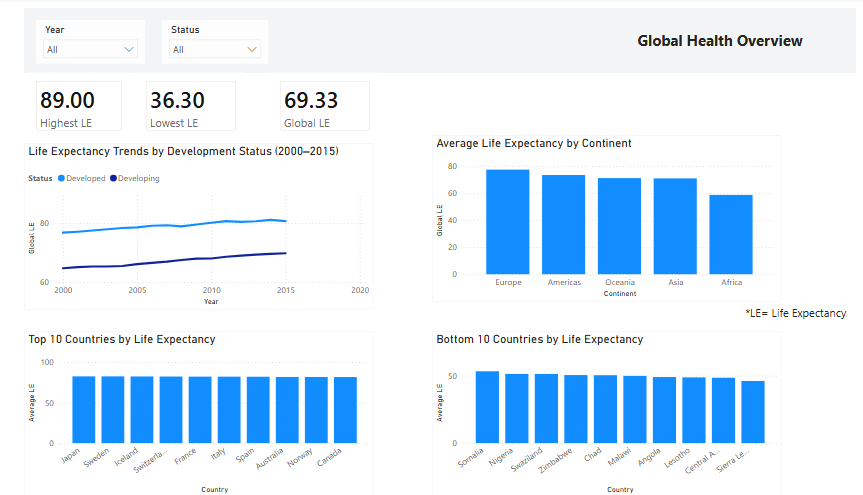

The page's visual inventory and layout, read from the dashboard file:
{"tool":"powerbi","page":{"name":"Page 1 ","canvas":[1280,720],"ordinal":0},"visuals":[{"type":"shape","box":[53.3,14.4,1198.1,93.6],"z":0},{"type":"lineChart","title":"Life Expectancy Trends by Development Status (2000–2015)","fields":{"Y":["_Measure Bank.Global_lifeExpectancy_Avg"],"Category":["v_Dim_Date.CalendarYear"],"Series":["v_Dim_Status.StatusName"]},"box":[53.3,208.8,502.6,240.5],"z":1000},{"type":"clusteredColumnChart","title":"Average Life Expectancy by Continent","fields":{"Y":["_Measure Bank.Global_lifeExpectancy_Avg"],"Category":["v_Dim_Geography.Continent"]},"box":[640.8,197.3,502,240.5],"z":2000},{"type":"clusteredColumnChart","title":"Top 10 Countries by Life Expectancy","fields":{"Y":["Avg(v_Fact_LifeExpectancy.Life_Expectancy)"],"Category":["v_Dim_Geography.Country"]},"box":[53.3,479.5,502.6,240.5],"z":3000},{"type":"clusteredColumnChart","title":"Bottom 10 Countries by Life Expectancy","fields":{"Y":["Avg(v_Fact_LifeExpectancy.Life_Expectancy)"],"Category":["v_Dim_Geography.Country"]},"box":[640.8,479.5,502.6,240.5],"z":4000},{"type":"cardVisual","fields":{"Data":["_Measure Bank.Max_LE"]},"box":[53.3,102.2,158.4,106.6],"z":5000},{"type":"cardVisual","fields":{"Data":["_Measure Bank.MIN_LE"]},"box":[211.7,102.2,164,106],"z":6000},{"type":"cardVisual","fields":{"Data":["_Measure Bank.Global_lifeExpectancy_Avg"]},"box":[404.6,102.2,164,106.6],"z":7000},{"type":"slicer","fields":{"Values":["v_Dim_Date.CalendarYear"]},"box":[70.6,31.7,157,63.4],"z":8000},{"type":"slicer","fields":{"Values":["v_Dim_Status.StatusName"]},"box":[252,31.7,152.6,63.4],"z":9000},{"type":"textbox","box":[901.4,41.8,308.2,40.3],"z":10000},{"type":"textbox","box":[1087.2,437.8,180,31.7],"z":11000}]}

Visuals, with their boxes in screenshot pixels (x1, y1, x2, y2), scaled from the page's 1280x720 canvas onto the 863x495 screenshot:
shape: bbox=[36, 10, 844, 74]
"Life Expectancy Trends by Development Status (2000–2015)" lineChart: bbox=[36, 144, 375, 309]
"Average Life Expectancy by Continent" clusteredColumnChart: bbox=[432, 136, 770, 301]
"Top 10 Countries by Life Expectancy" clusteredColumnChart: bbox=[36, 330, 375, 494]
"Bottom 10 Countries by Life Expectancy" clusteredColumnChart: bbox=[432, 330, 771, 494]
cardVisual - _Measure Bank.Max_LE: bbox=[36, 70, 143, 144]
cardVisual - _Measure Bank.MIN_LE: bbox=[143, 70, 253, 143]
cardVisual - _Measure Bank.Global_lifeExpectancy_Avg: bbox=[273, 70, 383, 144]
slicer - v_Dim_Date.CalendarYear: bbox=[48, 22, 153, 65]
slicer - v_Dim_Status.StatusName: bbox=[170, 22, 273, 65]
textbox: bbox=[608, 29, 816, 56]
textbox: bbox=[733, 301, 854, 323]
